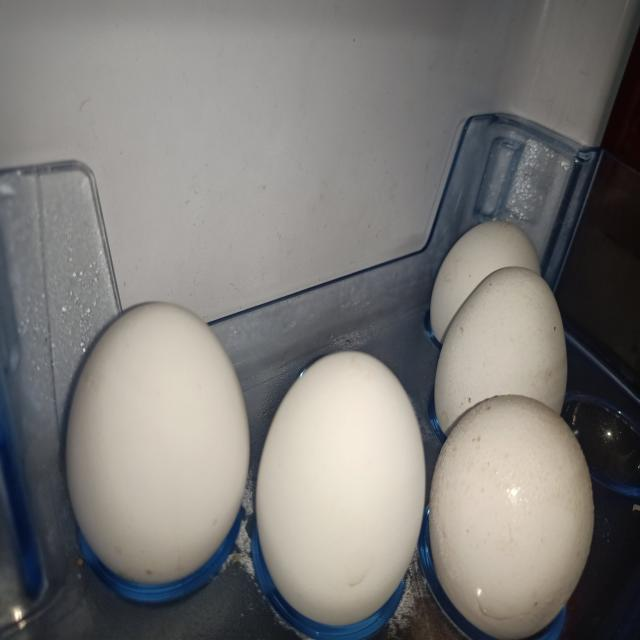Egg: (65, 302, 249, 585), (256, 351, 426, 627), (430, 395, 595, 639), (435, 266, 568, 435), (431, 220, 541, 343)
